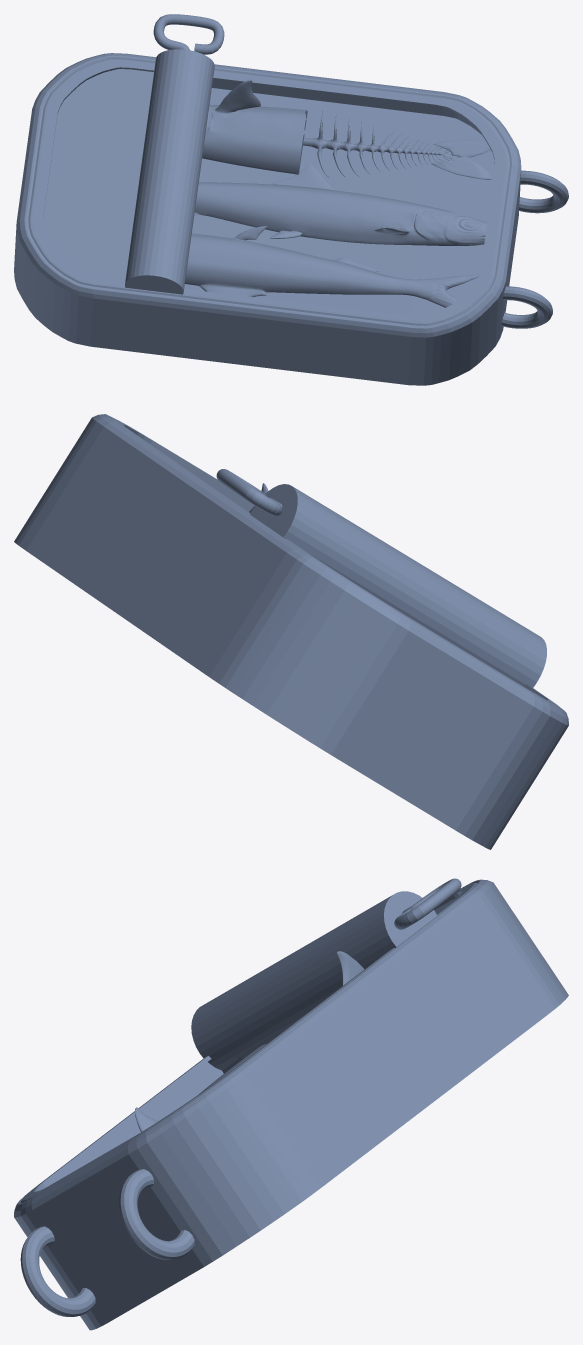
File: sardine_tin_opt.glb
3 views of the same model, one above another, from view 1: azimuth 30°, elevation 25°; view 2: azimuth 150°, elevation 25°; view 3: azimuth 270°, elevation 25° (orthographic). The views are drawn at different scales.
Parts seen in each view (by area): view 1: Cylinder.001; view 2: Cylinder.001; view 3: Cylinder.001.
Boxes of the visible parts, box(x1,y1,x2,y2) form: Cylinder.001: box(14, 14, 568, 385); Cylinder.001: box(14, 414, 568, 849); Cylinder.001: box(14, 878, 568, 1330).
Bounding box in the file's own units: 9.88 × 6.07 × 8.31.
